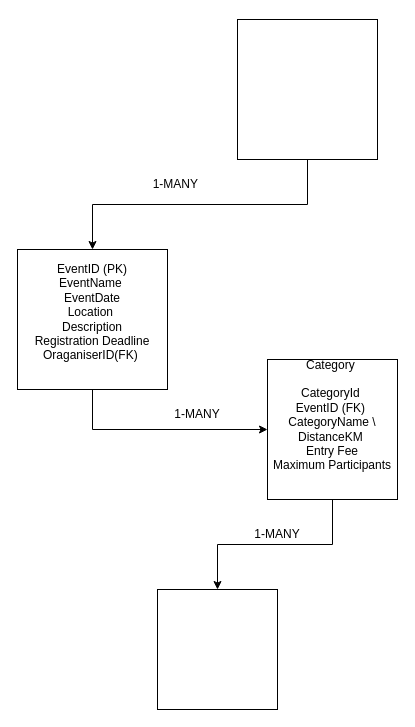
The diagram is 415 pixels wide and 727 high, and some of its shapes have lost their labels. The shapes that lost their labels are listed below. From the top down, each one's centre as x and y in pixels, then its label:
At pixel 307 89: "USER UserID (PK) FirstName LastName Email Password Role PhoneNumber".
At pixel 217 649: "Registration RegistrationID(PK) EventID(FK) PartivipantID(FK)".
